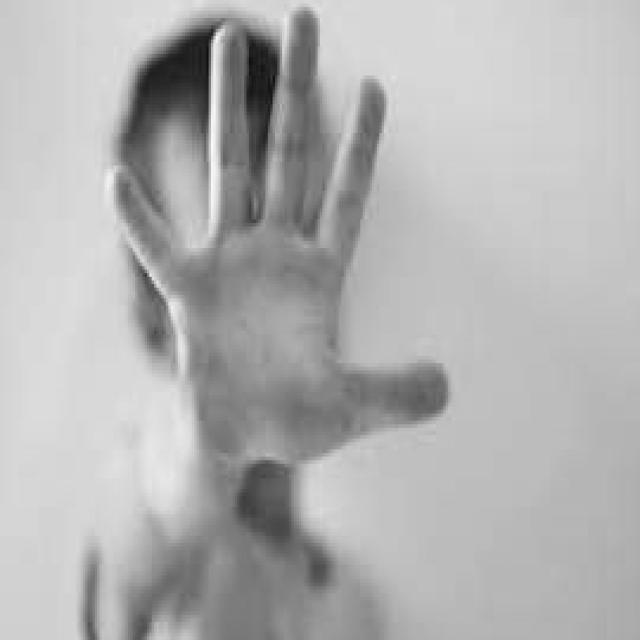stop: (100, 0, 458, 478)
